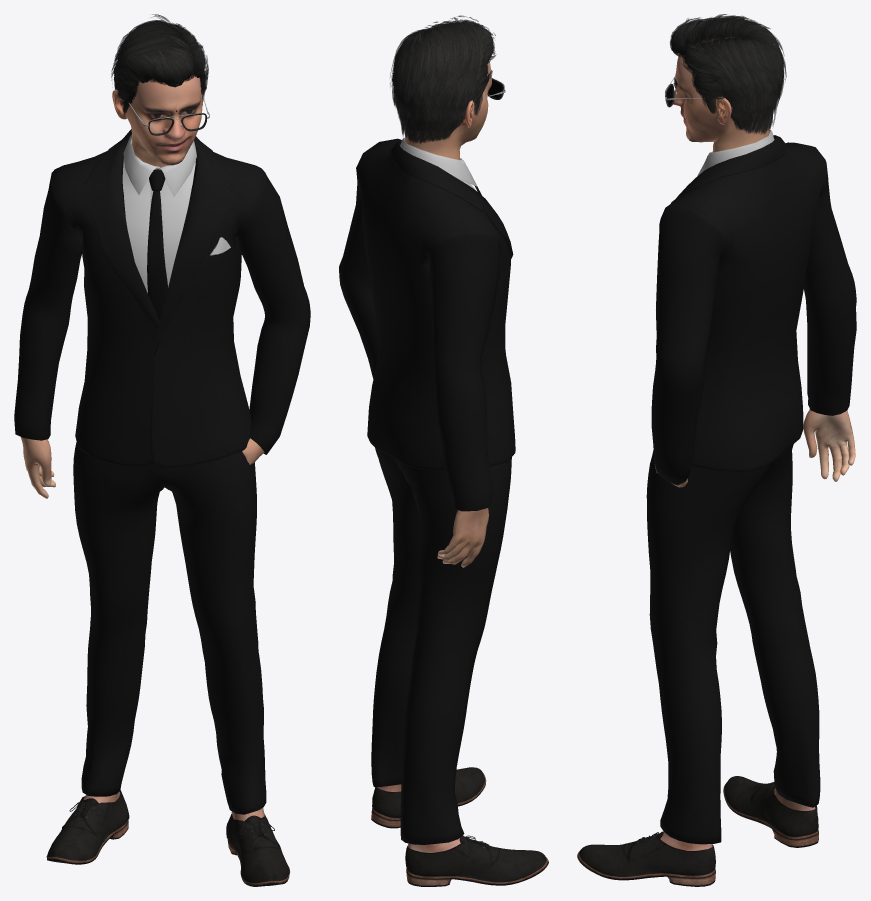
Rendered from suitmodel.gltf.
The picture shows the model from 3 angles, left to right: view 1: azimuth 30°, elevation 25°; view 2: azimuth 150°, elevation 25°; view 3: azimuth 270°, elevation 25°; orthographic projection.
Parts seen in each view (by area): view 1: avaturn_look_0, avaturn_body, avaturn_shoes_0, avaturn_hair_1, avaturn_hair_0; view 2: avaturn_look_0, avaturn_hair_1, avaturn_shoes_0, avaturn_hair_0, avaturn_body; view 3: avaturn_look_0, avaturn_hair_1, avaturn_shoes_0, avaturn_body, avaturn_hair_0.
Part boxes in pixels (x1,y1,x2,y2): avaturn_look_0: [14, 129, 310, 814]; avaturn_body: [20, 75, 264, 821]; avaturn_shoes_0: [46, 790, 289, 886]; avaturn_hair_1: [111, 14, 208, 114]; avaturn_hair_0: [113, 21, 205, 101]; avaturn_look_0: [339, 137, 515, 844]; avaturn_hair_1: [390, 15, 496, 143]; avaturn_shoes_0: [371, 767, 548, 886]; avaturn_hair_0: [392, 21, 493, 122]; avaturn_body: [377, 35, 491, 852]; avaturn_look_0: [646, 130, 856, 844]; avaturn_hair_1: [670, 14, 786, 134]; avaturn_shoes_0: [577, 776, 818, 886]; avaturn_body: [654, 28, 855, 850]; avaturn_hair_0: [671, 17, 784, 109].
Bounding box in the file's own units: 0.5483 × 1.87 × 0.57.
Materials: 7 (6 with a texture image).
